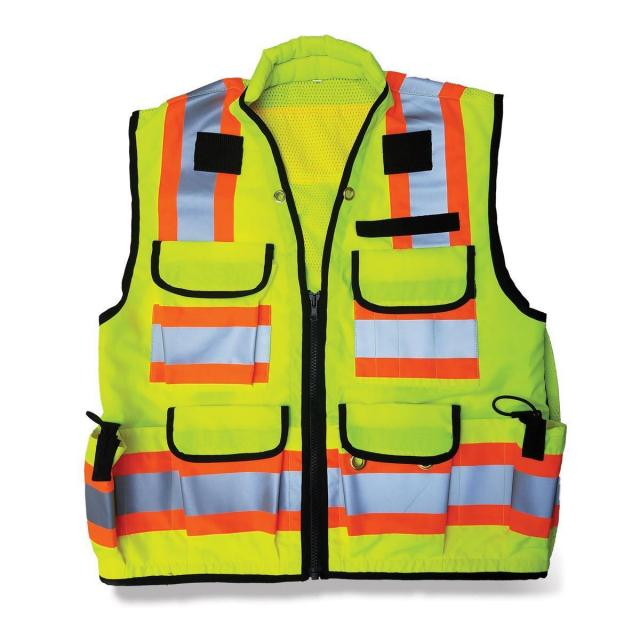vest: (79, 30, 568, 584)
